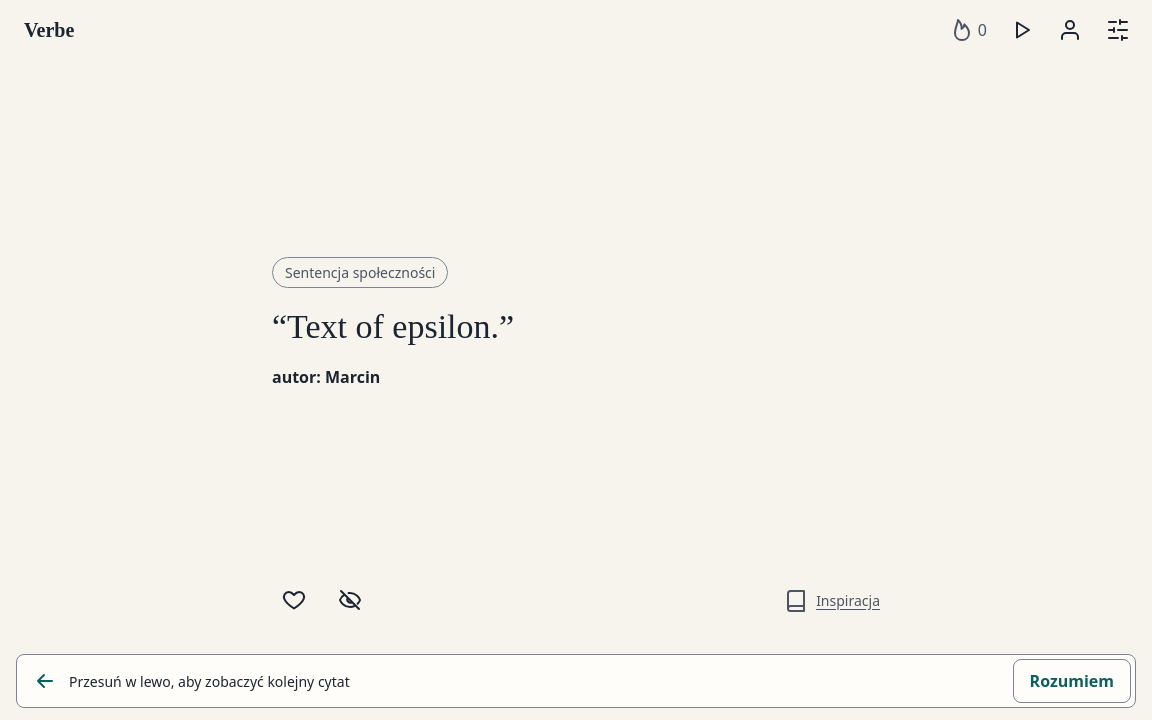
Test case: source filter › is translated
Click the 3rd button named "Ustawienia": (1118, 30) [1096, 8, 1140, 52]
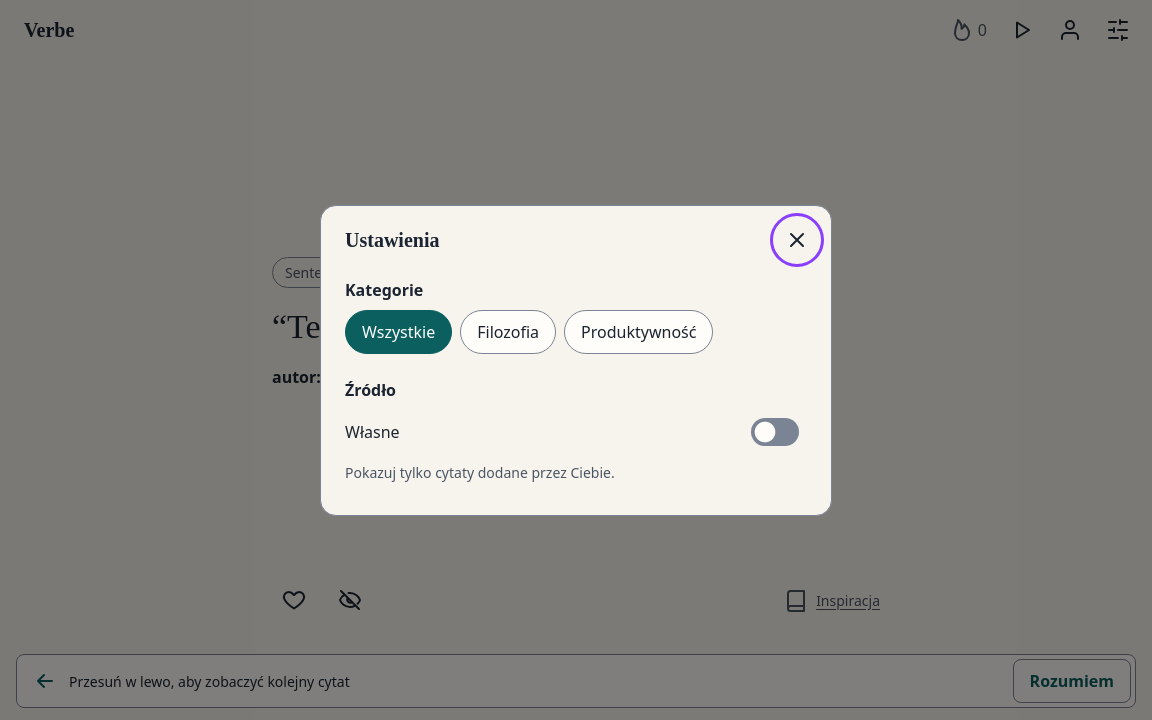
Check: the switch labelled "Własne" is shown, box [743, 410, 807, 454]
